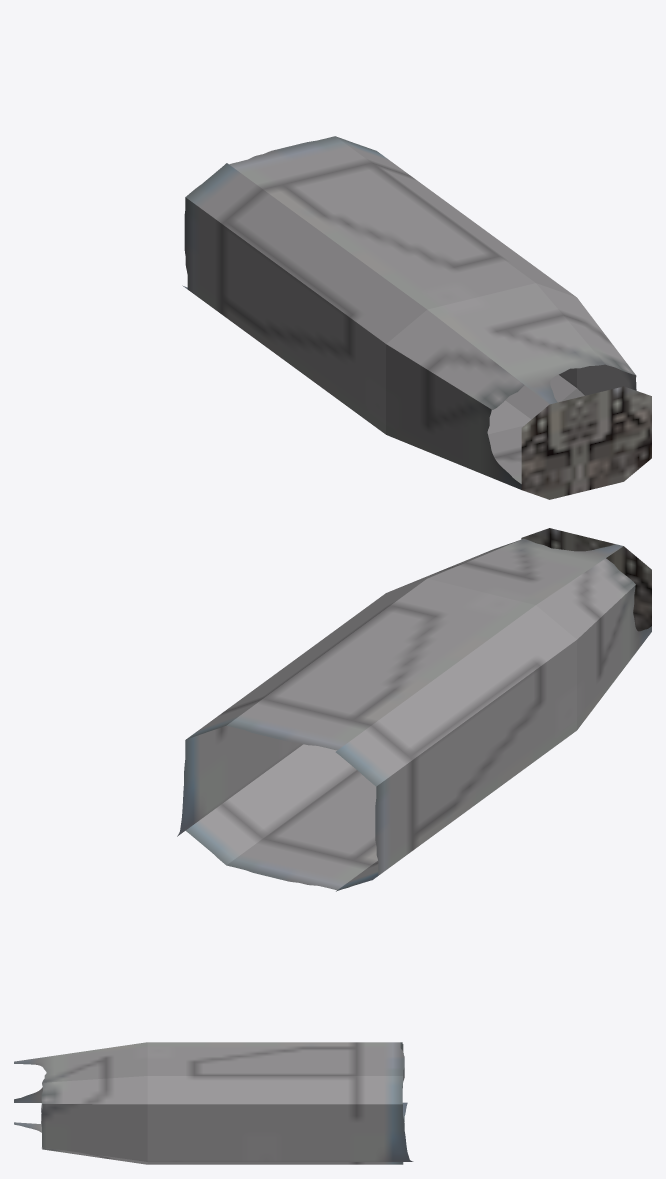
The model's file is Barrel-UVFlip.obj.
3 renders of one model, top to bottom at view 1: azimuth 30°, elevation 25°; view 2: azimuth 150°, elevation 25°; view 3: azimuth 270°, elevation 25°, orthographic. The views are drawn at different scales.
Visible parts, largest first — view 1: Hgn_Turret; view 2: Hgn_Turret; view 3: Hgn_Turret.
Part boxes in pixels (box(x1,y1,x2,y2)): Hgn_Turret: box(182, 136, 651, 499); Hgn_Turret: box(177, 528, 651, 891); Hgn_Turret: box(14, 1042, 413, 1164).
Size of the model in its own units: 5.7 by 3.99 by 25.93.
